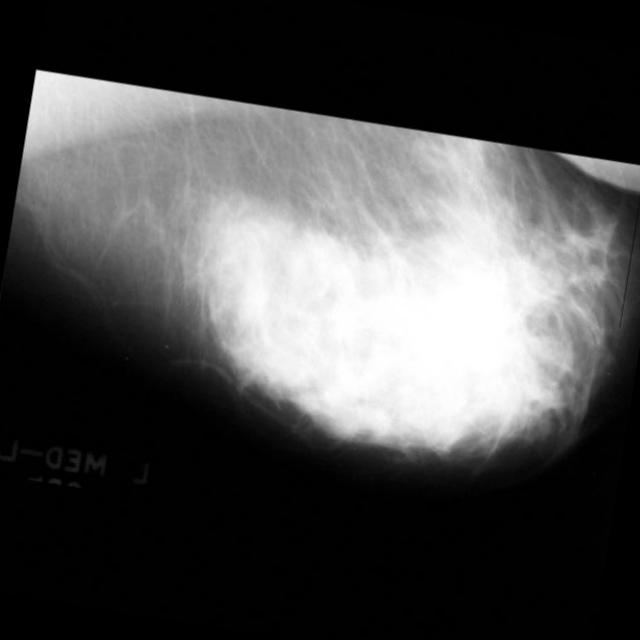ASYM: (394, 270, 534, 411)
